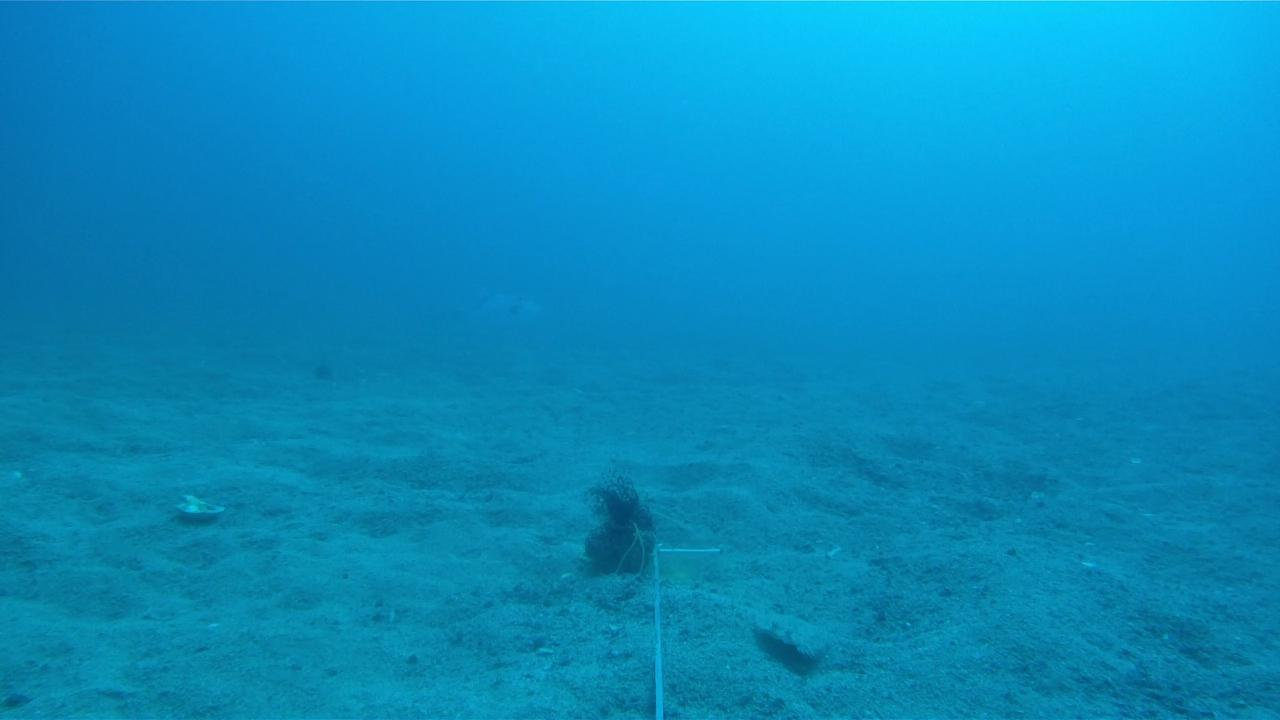bothus: (749, 604, 832, 668), (171, 492, 227, 529)
